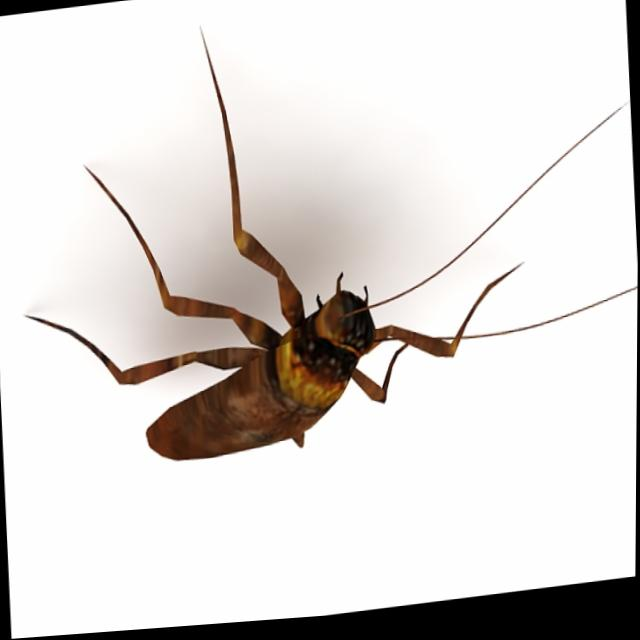Cockroach: (5, 0, 640, 502)
